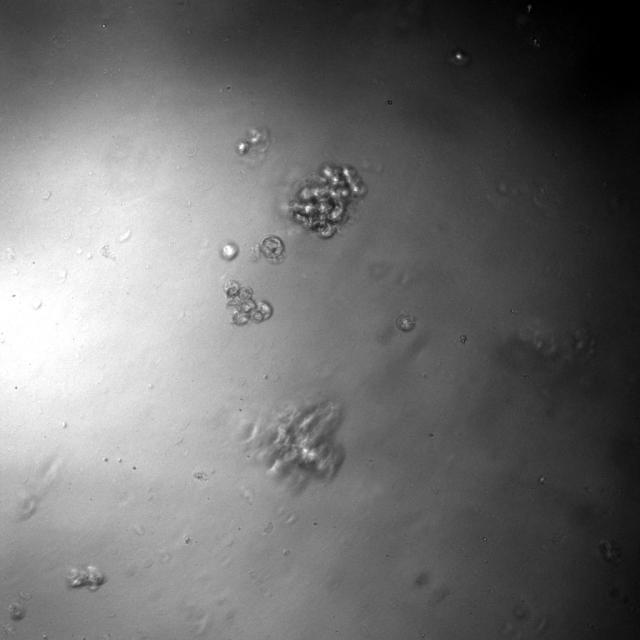organoid: (245, 396, 344, 486), (288, 165, 366, 237), (223, 281, 272, 326), (66, 565, 106, 591), (236, 127, 268, 155), (260, 236, 283, 258), (396, 314, 416, 332), (221, 242, 239, 261)
